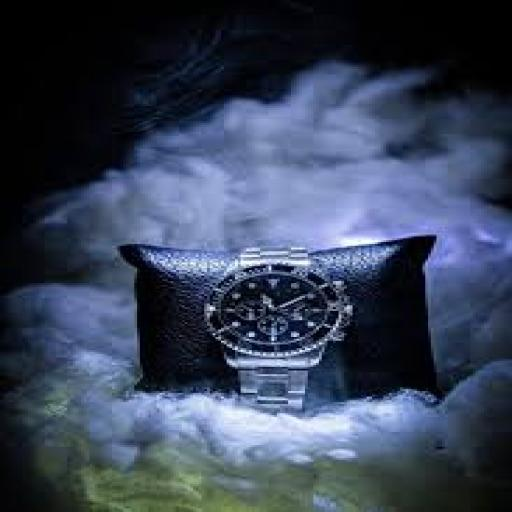KolSaati: (143, 224, 421, 420)
